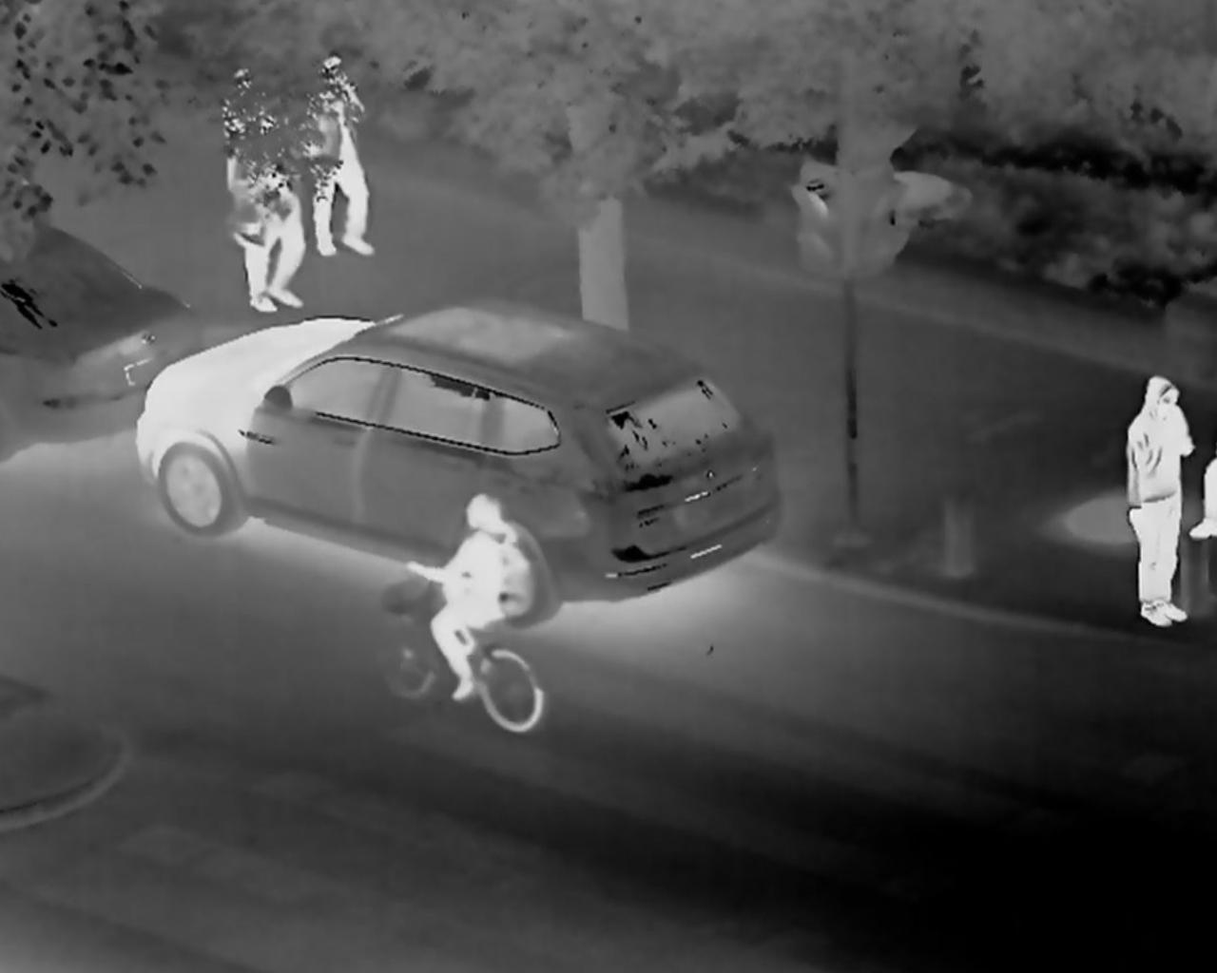person: (403, 489, 536, 707), (1117, 367, 1195, 631), (227, 105, 309, 316), (301, 48, 379, 259)
